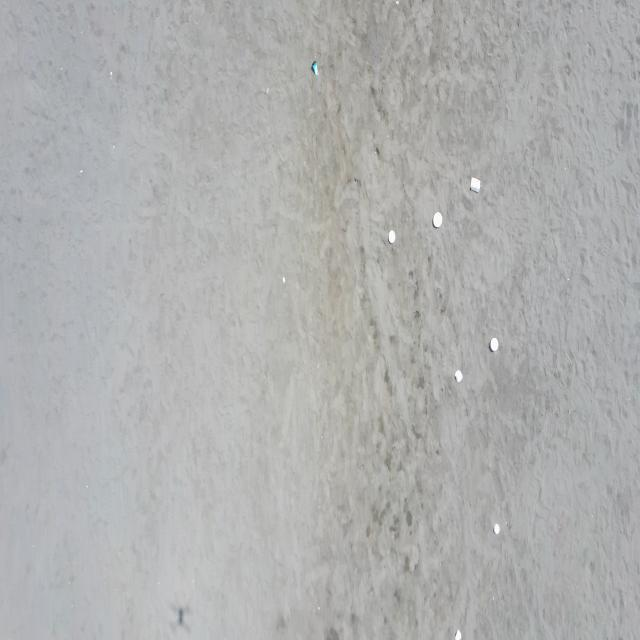take-away-containers: (432, 211, 443, 229), (470, 176, 481, 194), (454, 368, 464, 384), (490, 336, 499, 353), (388, 230, 396, 244), (454, 629, 462, 640), (493, 523, 500, 535)
takeaway-cup: (311, 60, 319, 76)
